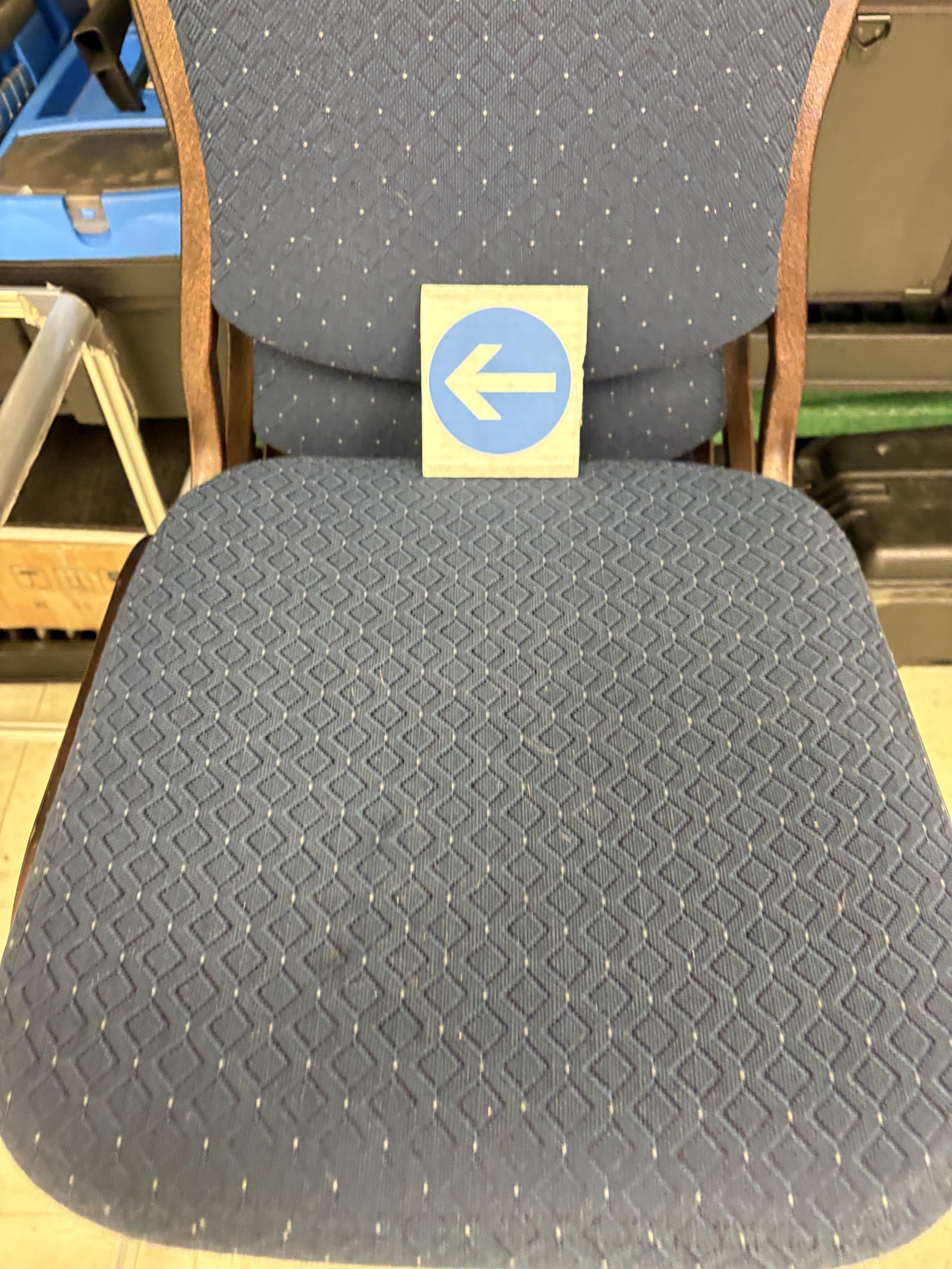Proceed Left: (316, 377, 440, 647)
